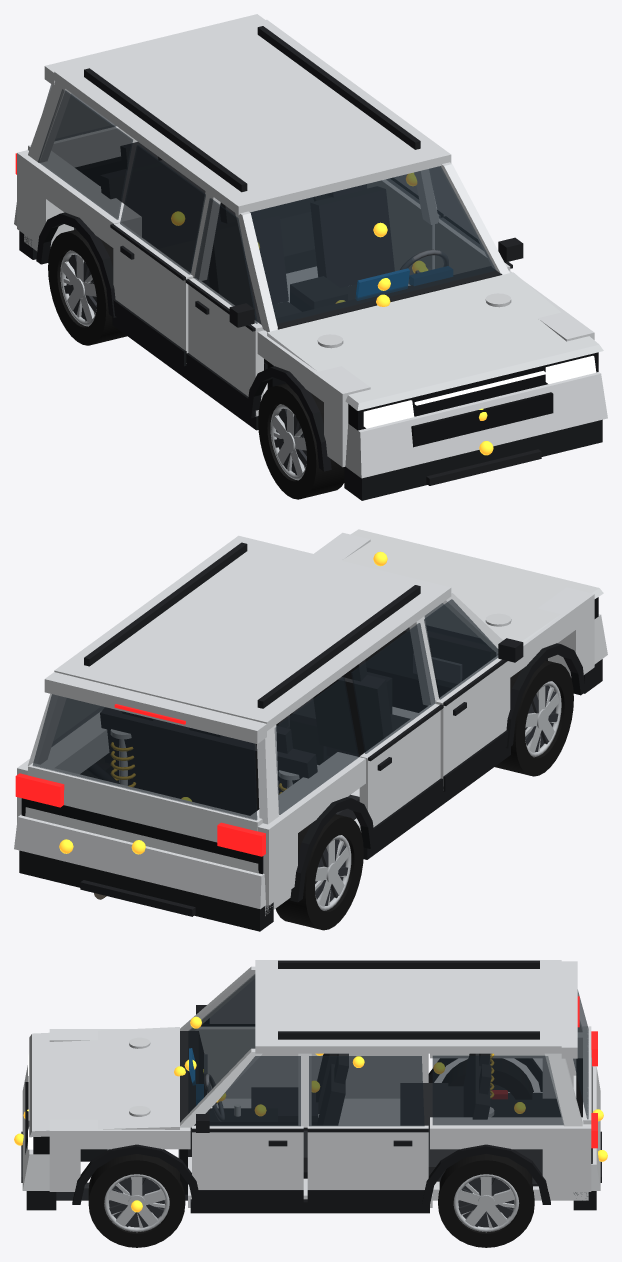
The model's file is urbanx_suv_v1.glb.
The picture shows the model from 3 angles, top to bottom: view 1: azimuth 30°, elevation 25°; view 2: azimuth 150°, elevation 25°; view 3: azimuth 270°, elevation 25°; orthographic projection. The views are drawn at different scales.
Parts seen in each view (by area): view 1: Body_Shell, Glass_Fixed, Hood_Panel, Body_Cladding, RearSeats_Bench, FrontSeats_Driver, Body_Grille, RearRightDoor_Window, RearRightDoor_Panel, Body_AccentTrim, FrontSeats_Passenger, FrontRightDoor_Panel (+17 smaller); view 2: Body_Shell, Trunk_Window, Trunk_Panel, RearSeats_Bench, Body_Cladding, Hood_Panel, Glass_Fixed, RearRightDoor_Window, RearRightDoor_Panel, Body_AccentTrim, FrontSeats_Passenger, FrontRightDoor_Panel (+16 smaller); view 3: Body_Shell, Hood_Panel, Glass_Fixed, RearLeftDoor_Window, Body_Cladding, RearLeftDoor_Panel, FrontLeftDoor_Panel, FrontLeftDoor_Window, Body_AccentTrim, FrontLeft_Tire, RearLeft_Tire, RearSeats_Bench (+22 smaller).
Part boxes in pixels (x1,y1,x2,y2): Body_Shell: (14, 19, 607, 478); Glass_Fixed: (38, 89, 496, 323); Hood_Panel: (267, 272, 603, 410); Body_Cladding: (19, 212, 602, 500); RearSeats_Bench: (100, 142, 316, 286); FrontSeats_Driver: (310, 184, 394, 300); Body_Grille: (75, 156, 598, 447); RearRightDoor_Window: (120, 145, 205, 274); RearRightDoor_Panel: (113, 223, 193, 363); Body_AccentTrim: (84, 26, 541, 485); FrontSeats_Passenger: (208, 202, 301, 363); FrontRightDoor_Panel: (188, 278, 263, 416); Body_Shell: (14, 532, 607, 915); Trunk_Window: (32, 694, 257, 820); Trunk_Panel: (25, 672, 266, 873); RearSeats_Bench: (100, 707, 359, 819); Body_Cladding: (19, 643, 602, 931); Hood_Panel: (342, 529, 603, 642); Glass_Fixed: (52, 603, 486, 814); RearRightDoor_Window: (351, 623, 435, 753); RearRightDoor_Panel: (359, 703, 440, 832); Body_AccentTrim: (80, 542, 420, 916); FrontSeats_Passenger: (313, 659, 409, 756); FrontRightDoor_Panel: (435, 655, 510, 790); Body_Shell: (22, 960, 600, 1207); Hood_Panel: (29, 1027, 179, 1137); Glass_Fixed: (188, 974, 563, 1125); RearLeftDoor_Window: (309, 1056, 424, 1126); Body_Cladding: (26, 1058, 596, 1213); RearLeftDoor_Panel: (307, 1125, 428, 1189); FrontLeftDoor_Panel: (192, 1125, 303, 1189); FrontLeftDoor_Window: (207, 1056, 300, 1126); Body_AccentTrim: (21, 960, 601, 1182); FrontLeft_Tire: (88, 1154, 185, 1247); RearLeft_Tire: (438, 1153, 534, 1247); RearSeats_Bench: (400, 1053, 490, 1181).
Bounding box in the file's own units: 2.04 × 1.63 × 4.42.
